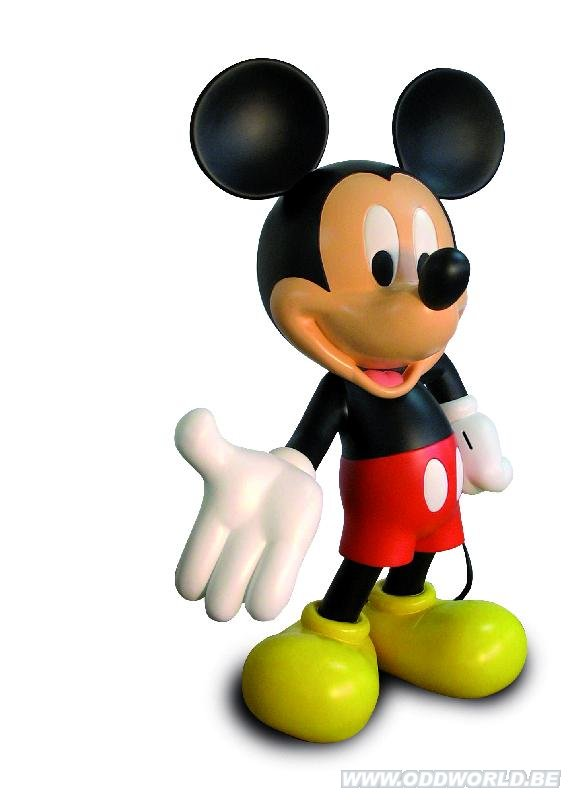Mickey: (186, 53, 510, 403)
